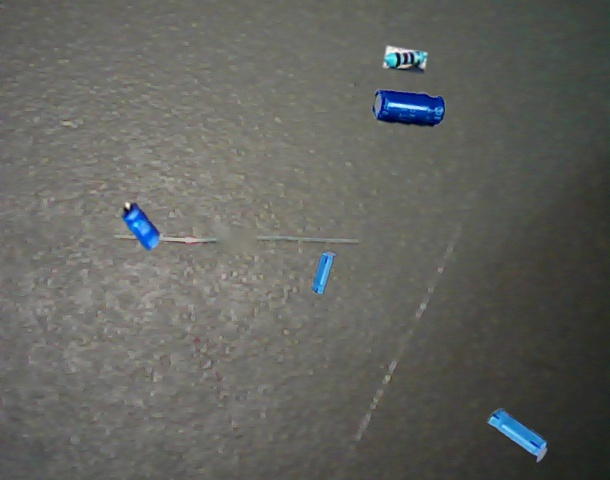capacitor: (487, 409, 548, 462), (372, 89, 446, 127), (122, 202, 160, 252), (311, 251, 337, 295)
resistor: (383, 46, 427, 74)
